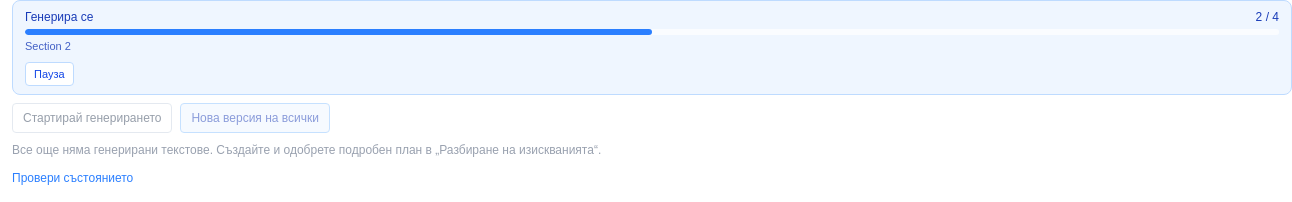
Test: GenerationsPanel › requests a safe pause for an active generation job
Click the button with test id "generation-job-pause-button".
click(49, 74)  # box [25,62,74,86]
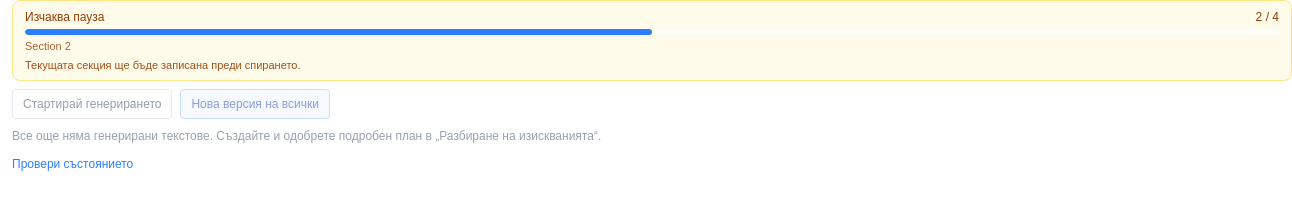
Expected: the text "Изчаква пауза" is shown, [25,9,104,25]
Expected: the text "Текущата секция ще бъде записана преди спирането." is shown, [25,59,300,71]
